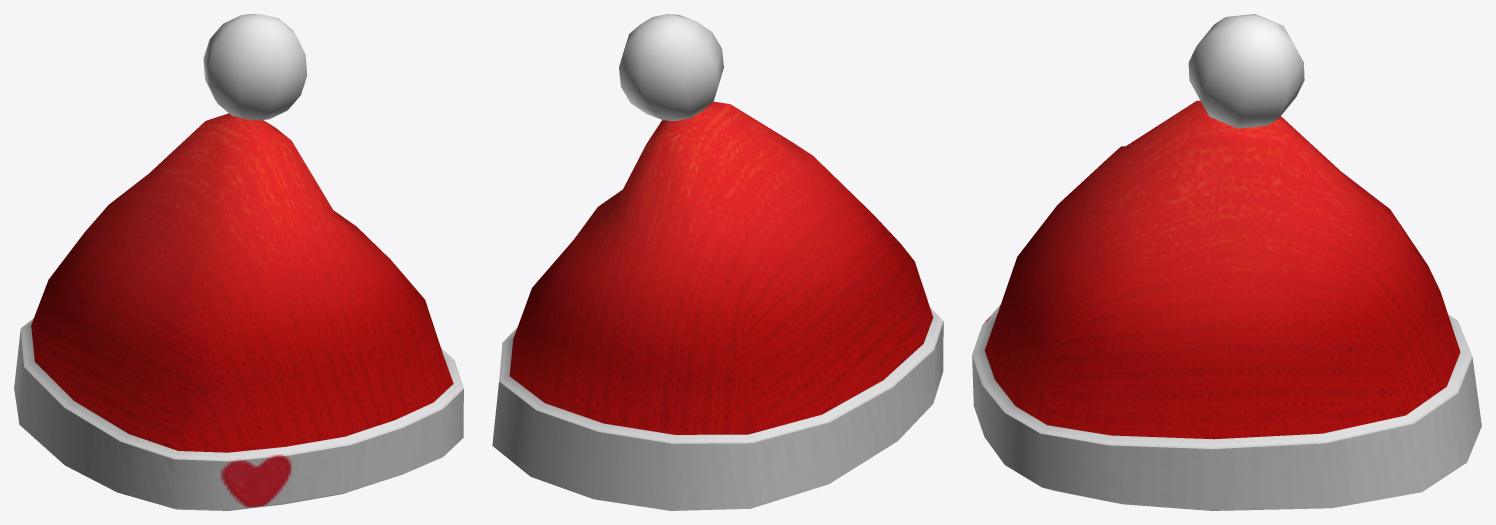
Rendered from boy_cap2.FBX.
3 renders of one model, left to right at view 1: azimuth 30°, elevation 25°; view 2: azimuth 150°, elevation 25°; view 3: azimuth 270°, elevation 25°, orthographic. The views are drawn at different scales.
Visible parts, largest first — view 1: boy_cap27; view 2: boy_cap27; view 3: boy_cap27.
Part boxes in pixels (x1,y1,x2,y2): boy_cap27: (14, 14, 463, 510); boy_cap27: (492, 14, 943, 510); boy_cap27: (972, 14, 1481, 510).
Bounding box in the file's own units: 47.29 × 56.48 × 54.62.
